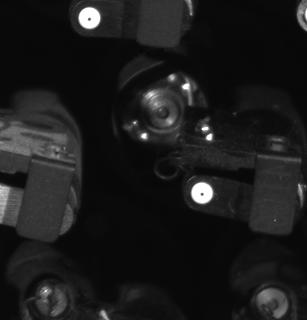fiber: (185, 179, 220, 210), (74, 5, 106, 33)
